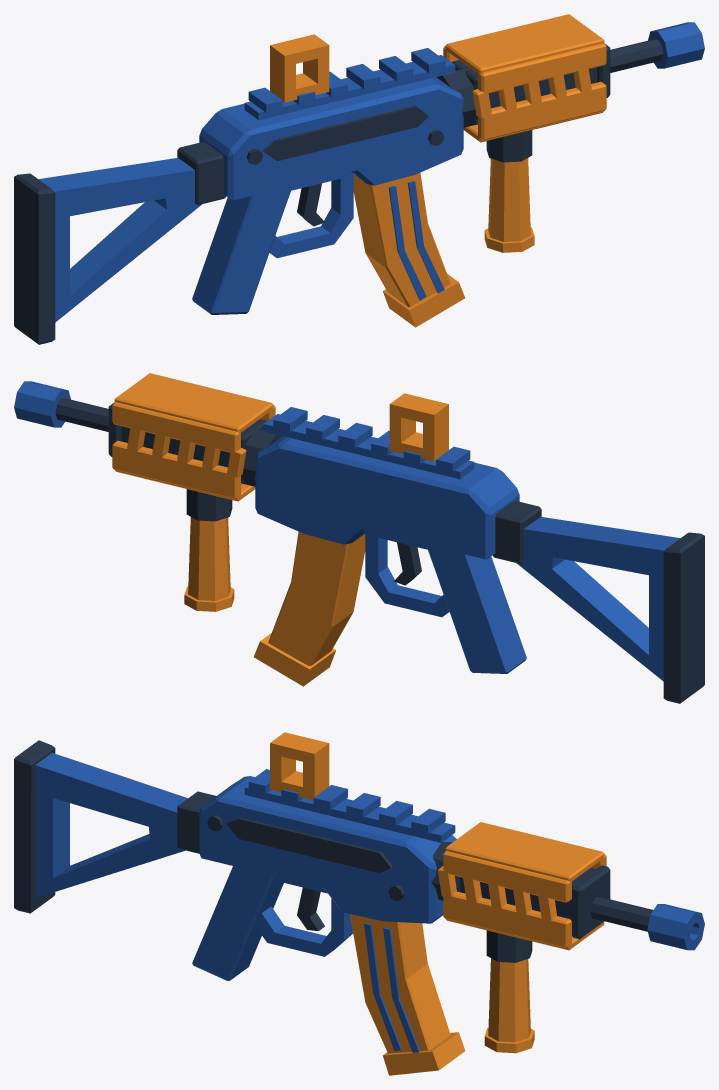
3 renders of one model, top to bottom at view 1: azimuth 30°, elevation 25°; view 2: azimuth 150°, elevation 25°; view 3: azimuth 330°, elevation 25°, orthographic.
Visible parts, largest first — view 1: Receptor, Coronha vazada, Punho, Apoio da coronha, Carregador, Tampa frontal superior, Placa inferior frontal, Painel lateral, Mira retangular, Apoio frontal, Arco de proteção, Placa superior frontal (+16 smaller); view 2: Receptor, Coronha vazada, Carregador, Punho, Apoio da coronha, Tampa frontal superior, Placa inferior frontal.001, Mira retangular, Apoio frontal, Arco de proteção, Placa superior frontal.001, Base do trilho (+13 smaller); view 3: Receptor, Coronha vazada, Carregador, Punho, Tampa frontal superior, Apoio da coronha, Placa inferior frontal, Painel lateral, Mira retangular, Apoio frontal, Placa superior frontal, Arco de proteção (+16 smaller).
Part boxes in pixels (<box>): Receptor: <box>199,77,463,200</box>; Coronha vazada: <box>38,158,202,322</box>; Punho: <box>192,186,292,314</box>; Apoio da coronha: <box>14,173,55,344</box>; Carregador: <box>353,173,450,306</box>; Tampa frontal superior: <box>445,14,604,74</box>; Placa inferior frontal: <box>478,81,606,140</box>; Painel lateral: <box>262,105,428,161</box>; Mira retangular: <box>270,34,329,102</box>; Apoio frontal: <box>488,158,530,241</box>; Arco de proteção: <box>269,172,353,258</box>; Placa superior frontal: <box>478,43,606,93</box>; Receptor: <box>255,436,519,559</box>; Coronha vazada: <box>516,517,680,681</box>; Carregador: <box>268,532,365,665</box>; Punho: <box>426,545,526,673</box>; Apoio da coronha: <box>663,532,704,703</box>; Tampa frontal superior: <box>114,373,273,433</box>; Placa inferior frontal.001: <box>112,440,240,499</box>; Mira retangular: <box>389,393,448,461</box>; Apoio frontal: <box>188,517,230,600</box>; Arco de proteção: <box>365,531,449,617</box>; Placa superior frontal.001: <box>112,402,240,452</box>; Base do trilho: <box>263,414,474,479</box>; Receptor: <box>199,776,456,923</box>; Coronha vazada: <box>35,753,187,897</box>; Carregador: <box>350,914,450,1053</box>; Punho: <box>192,866,283,980</box>; Tampa frontal superior: <box>445,822,604,881</box>; Apoio da coronha: <box>14,740,55,913</box>; Placa inferior frontal: <box>443,891,571,948</box>; Painel lateral: <box>226,817,392,873</box>; Mira retangular: <box>270,732,329,800</box>; Apoio frontal: <box>488,958,530,1042</box>; Placa superior frontal: <box>443,851,571,902</box>; Arco de proteção: <box>256,877,353,956</box>.
Bounding box in the file's own units: 5.24 × 2.23 × 0.5575.
